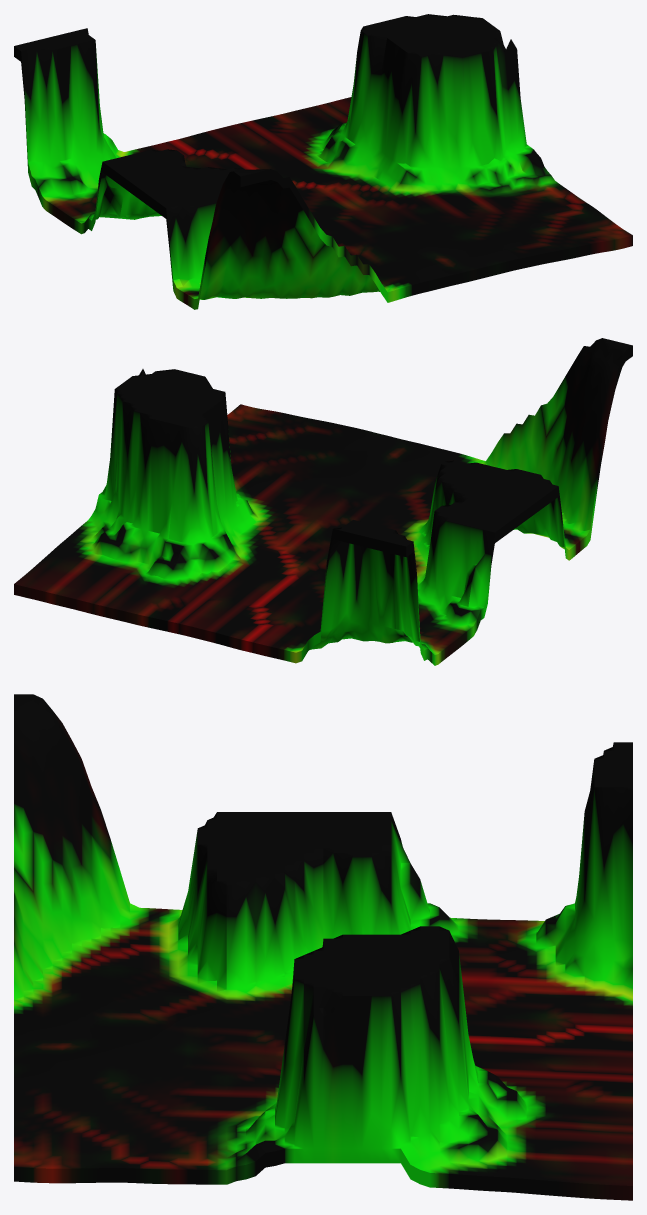
Rendered from Terrain_06_04.fbx.
3 views of the same model, one above another, from view 1: azimuth 30°, elevation 25°; view 2: azimuth 150°, elevation 25°; view 3: azimuth 270°, elevation 25° (orthographic). The views are drawn at different scales.
Visible parts, largest first — view 1: Terrain_06_04_LOD0; view 2: Terrain_06_04_LOD0; view 3: Terrain_06_04_LOD0.
Part boxes in pixels (x1,y1,x2,y2): Terrain_06_04_LOD0: [14, 14, 632, 309]; Terrain_06_04_LOD0: [14, 338, 632, 665]; Terrain_06_04_LOD0: [14, 694, 632, 1200].
Size of what is drawn, in the model's own units: 384 by 168 by 384.
